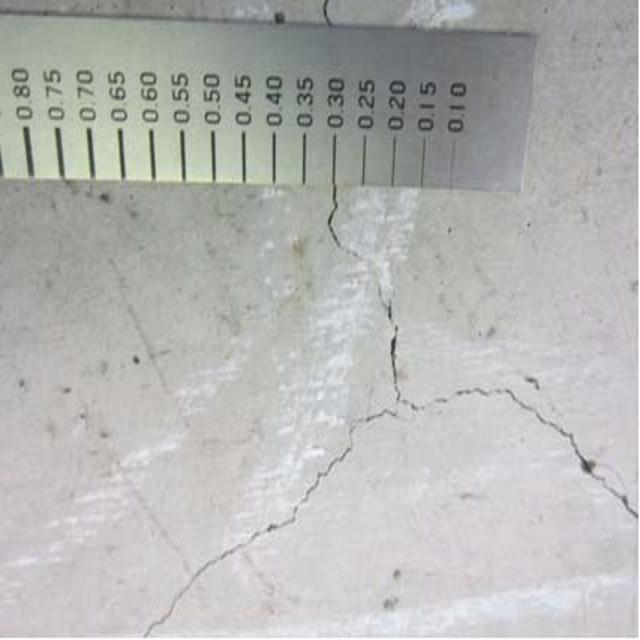crack: (148, 197, 640, 640)
